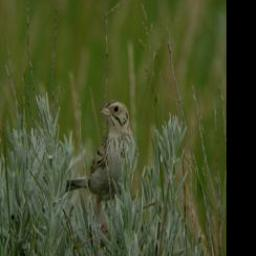Sparrow: (61, 94, 143, 244)
